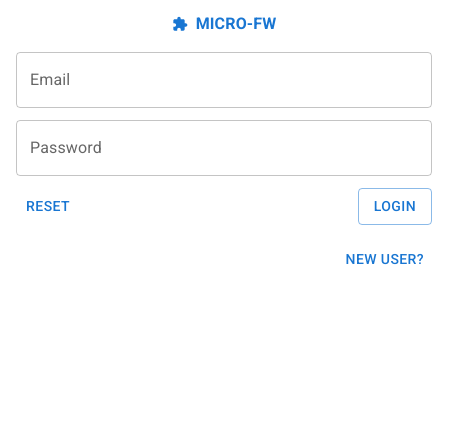
Scenario: toggle between login and register components
expect the button "Login" is shown: met, box [358,188,432,224]
Note: Click the button to toggle view
Click the button "New User?": click(385, 259) [338,240,432,277]
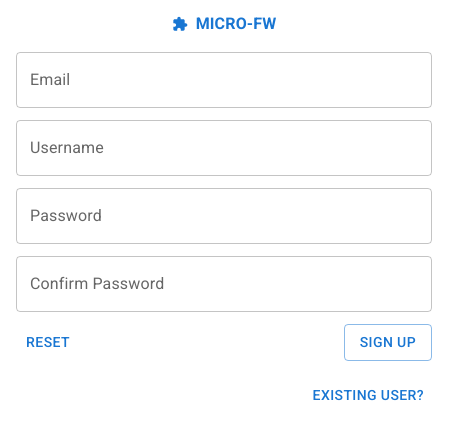
expect the button "Sign Up" is shown: met, box [344,324,432,360]
Note: Click the button again to toggle back to login
Click the button "Existing User?": click(368, 395) [305,376,432,413]
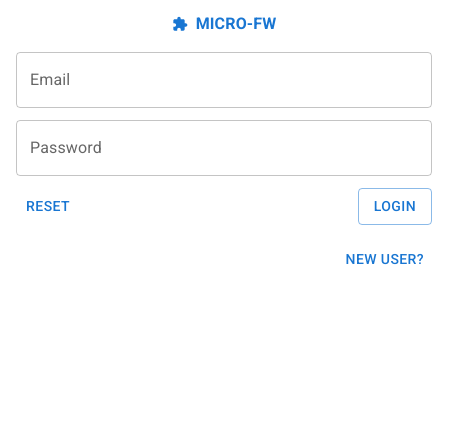
expect the button "Login" is shown: met, box [358,188,432,224]
